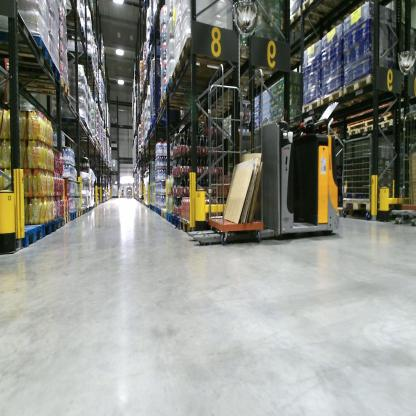pallet: (13, 76, 70, 248), (177, 34, 234, 82), (2, 29, 55, 69), (250, 46, 306, 78), (4, 57, 61, 86), (173, 58, 231, 86), (291, 6, 334, 39), (321, 88, 360, 119), (157, 91, 211, 113), (342, 196, 402, 215), (344, 73, 380, 104), (302, 1, 351, 20), (165, 79, 209, 97), (149, 114, 185, 131), (299, 96, 321, 121), (372, 117, 399, 134), (65, 26, 87, 42), (64, 10, 81, 30), (179, 218, 197, 236), (40, 219, 57, 237), (357, 122, 373, 135), (53, 215, 65, 230), (171, 217, 181, 231), (62, 212, 71, 225), (343, 126, 358, 133), (68, 210, 77, 221), (78, 206, 87, 217), (166, 212, 173, 225), (91, 7, 97, 19), (75, 208, 82, 217), (161, 208, 166, 218), (158, 208, 162, 217), (154, 206, 158, 214)
pallet_truck: (193, 101, 346, 239), (125, 181, 133, 200)
